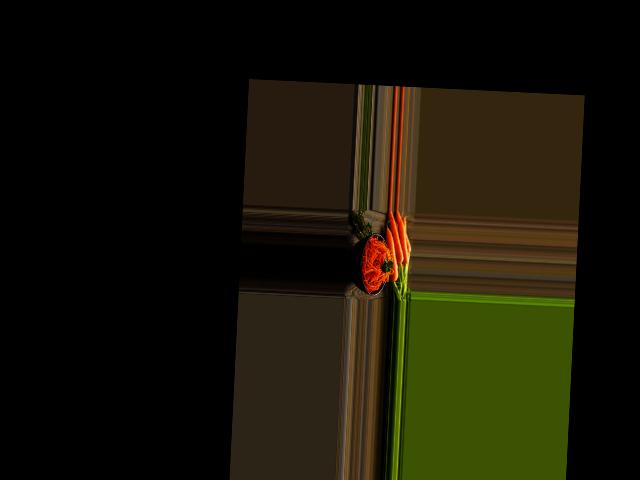carrot: (383, 224, 400, 285)
